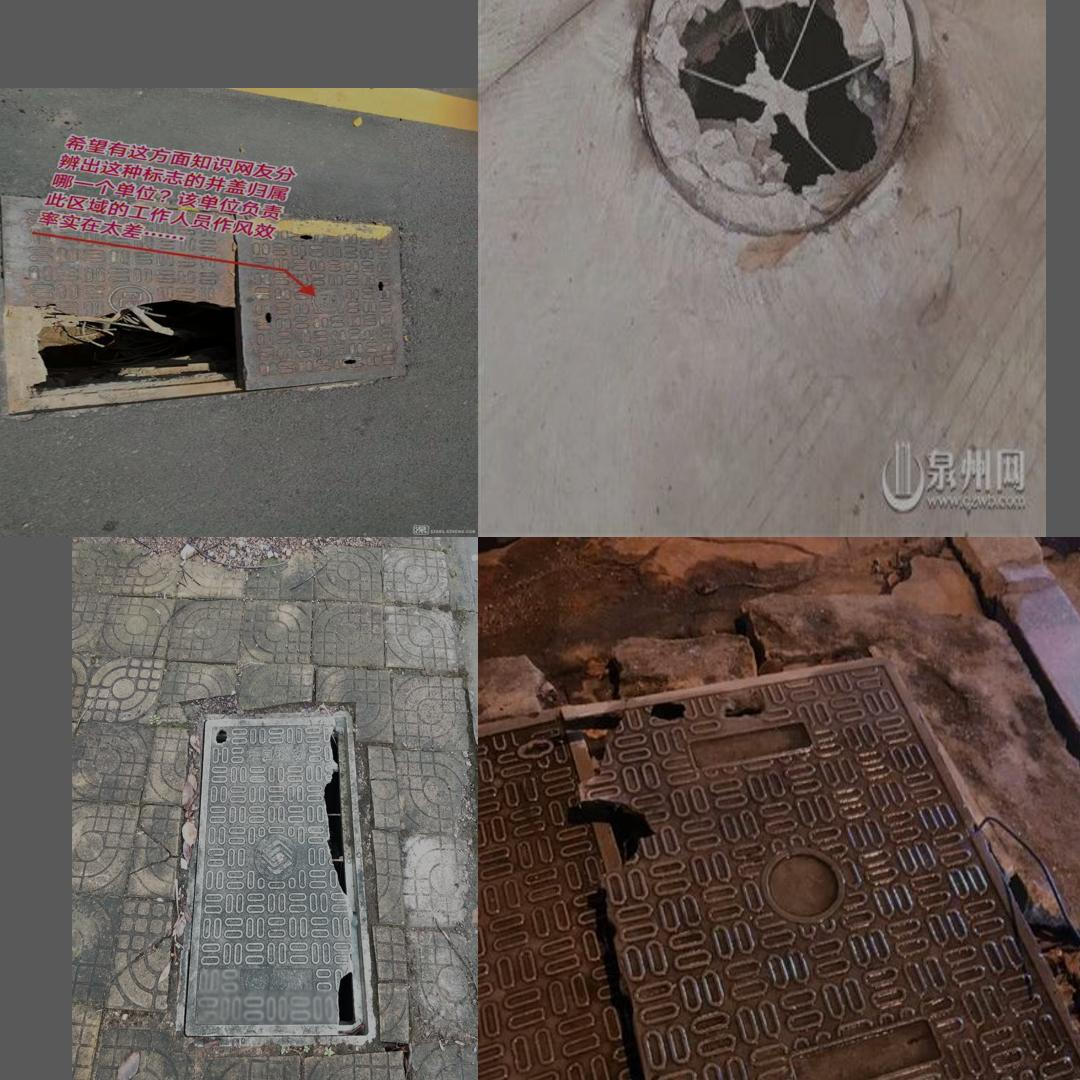broke: (490, 614, 1077, 1080), (606, 0, 962, 290), (0, 188, 434, 414), (183, 711, 378, 1050)
